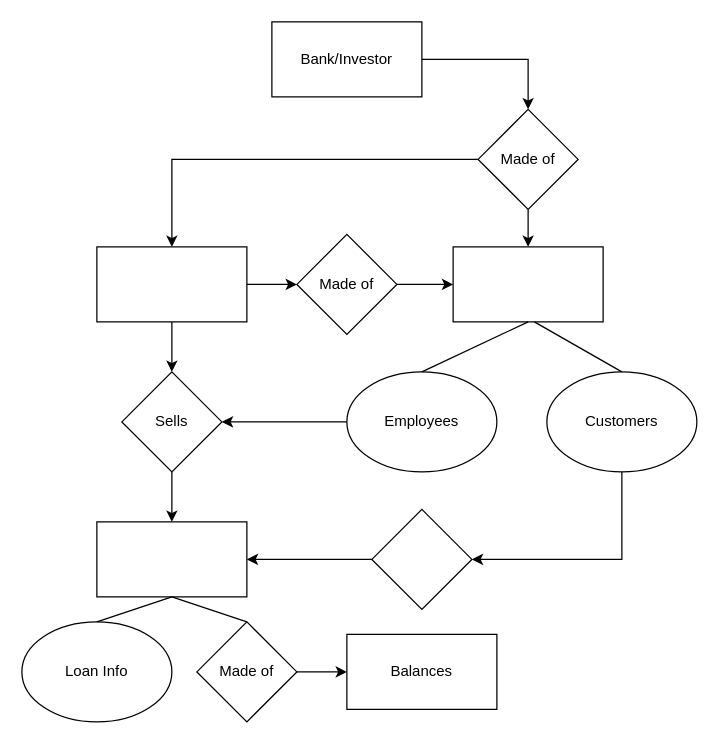
This 719x744 diagram has some shape labels left out. Here are the shapes that lost their labels. From the top down, the box of each, then its label:
(96, 246, 247, 322): Branch
(452, 246, 603, 322): Account Types
(96, 521, 247, 597): Loan Type
(371, 508, 472, 609): Maintain
